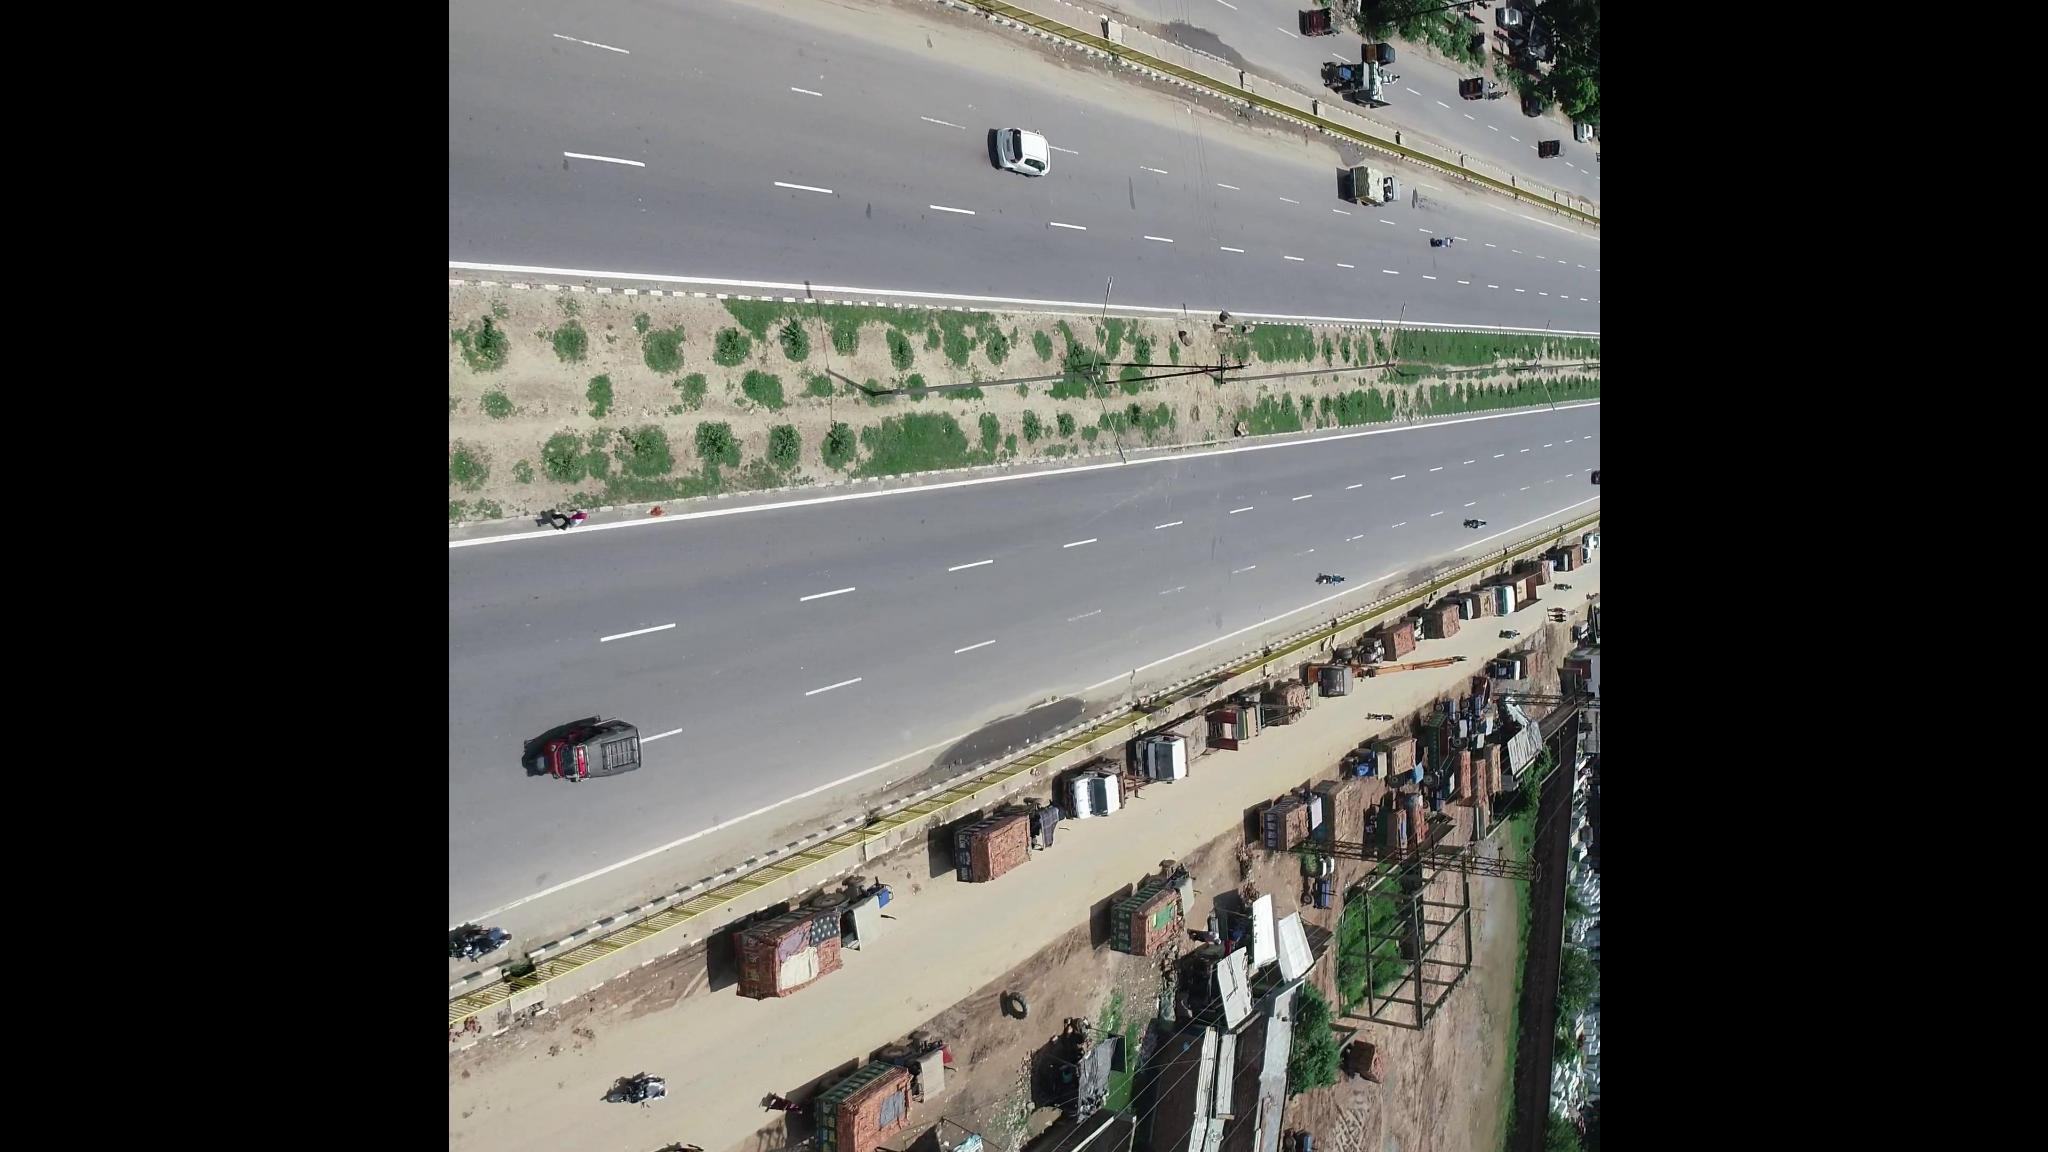Waterlogging: (945, 698, 1075, 764)
